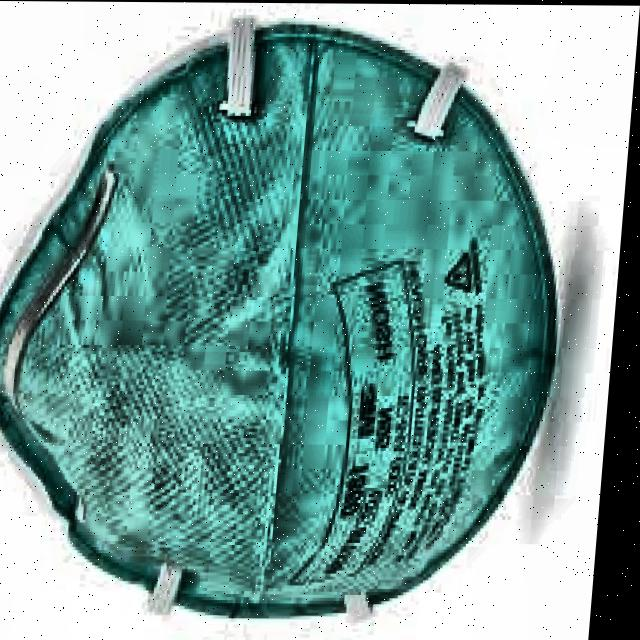trash: (0, 18, 584, 626)
